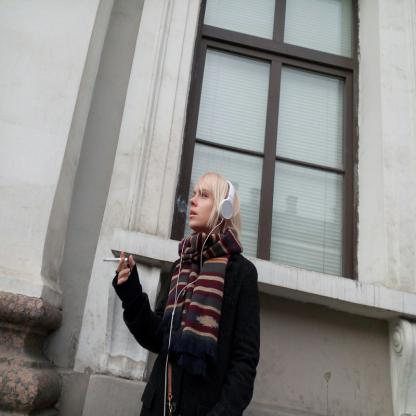smoking: (104, 258, 128, 261)
